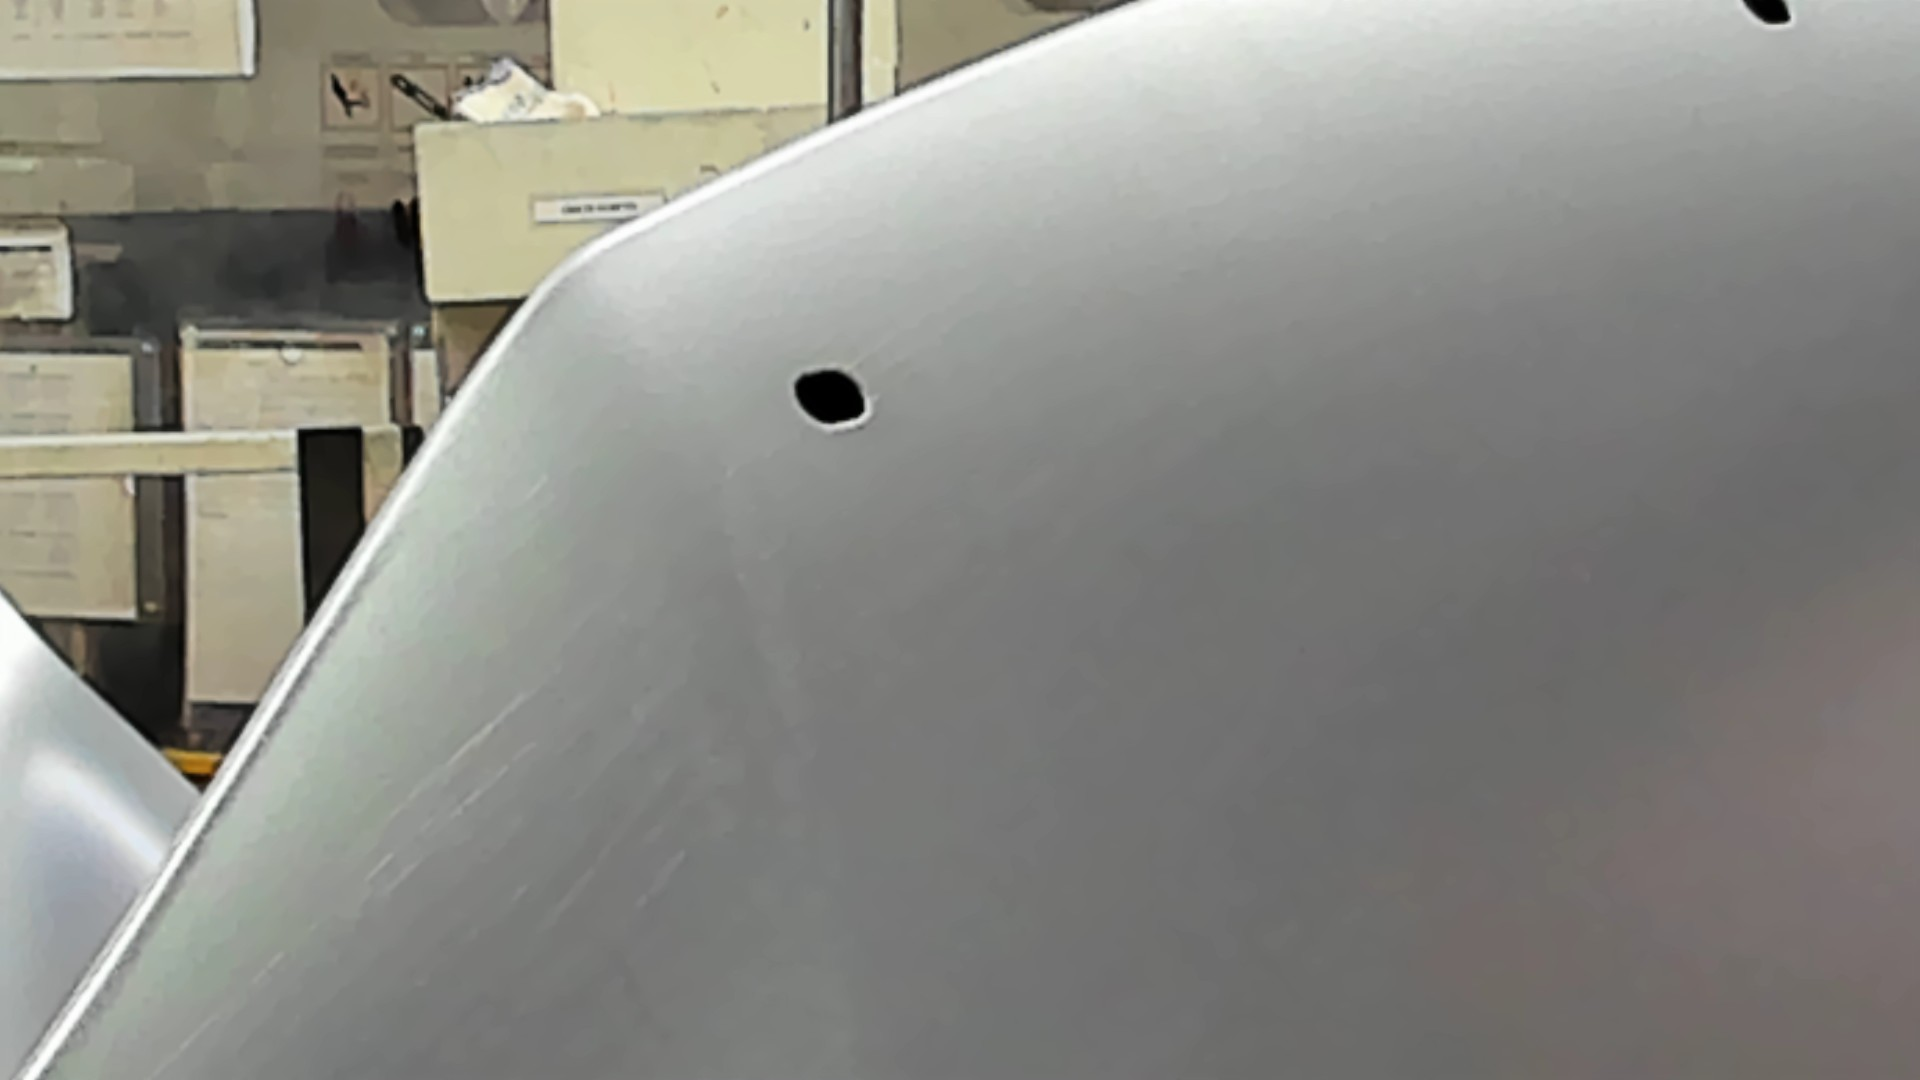amorfo: (787, 363, 874, 435), (1735, 1, 1797, 32)
capo: (953, 116, 1920, 1080)
